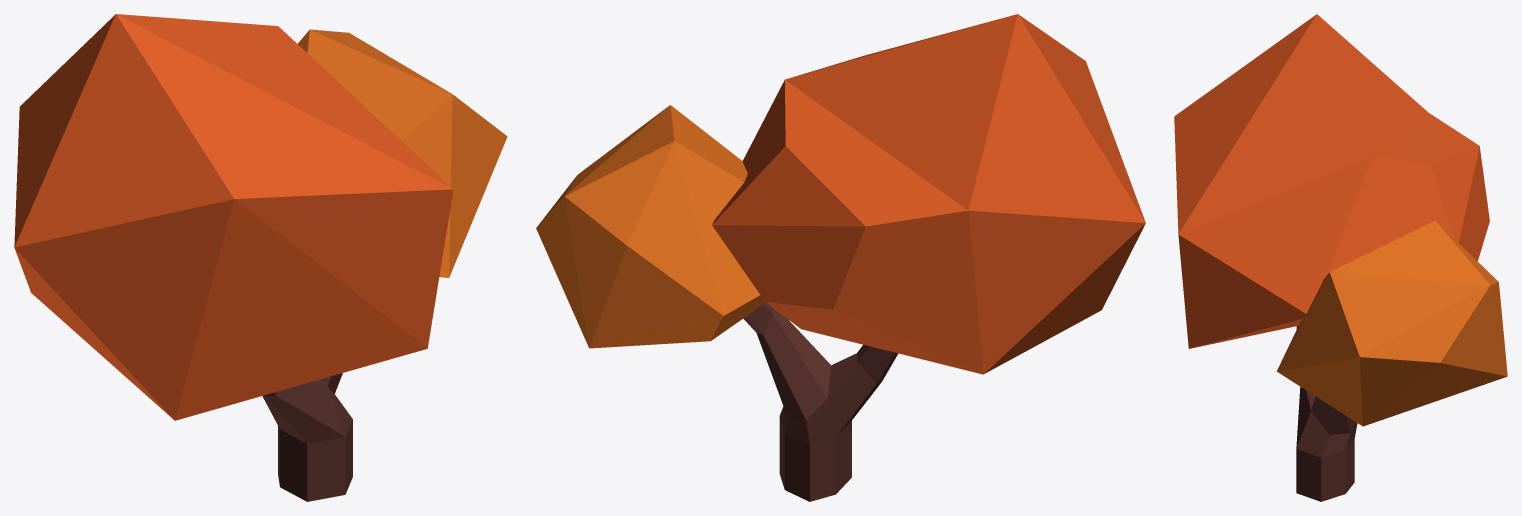
The model's file is bush_4.fbx.
The picture shows the model from 3 angles, left to right: view 1: azimuth 30°, elevation 25°; view 2: azimuth 150°, elevation 25°; view 3: azimuth 270°, elevation 25°; orthographic projection. The views are drawn at different scales.
Visible parts, largest first — view 1: bush_4; view 2: bush_4; view 3: bush_4.
Part boxes in pixels (left/top/right/bottom): bush_4: left=14, top=14, right=507, bottom=501; bush_4: left=536, top=14, right=1145, bottom=501; bush_4: left=1174, top=14, right=1507, bottom=501.
Size of the model in its own units: 241 by 226 by 171.
1 material, 1 textured.
